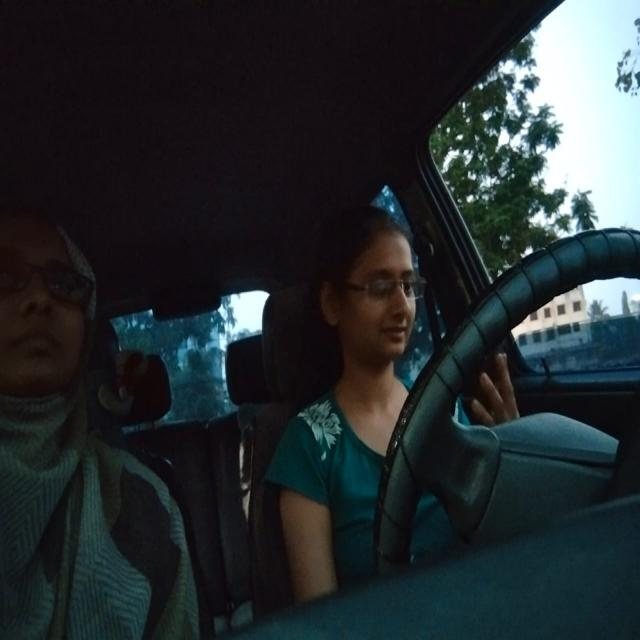mobile: (458, 347, 514, 424)
person: (0, 215, 105, 416), (302, 203, 420, 370)
